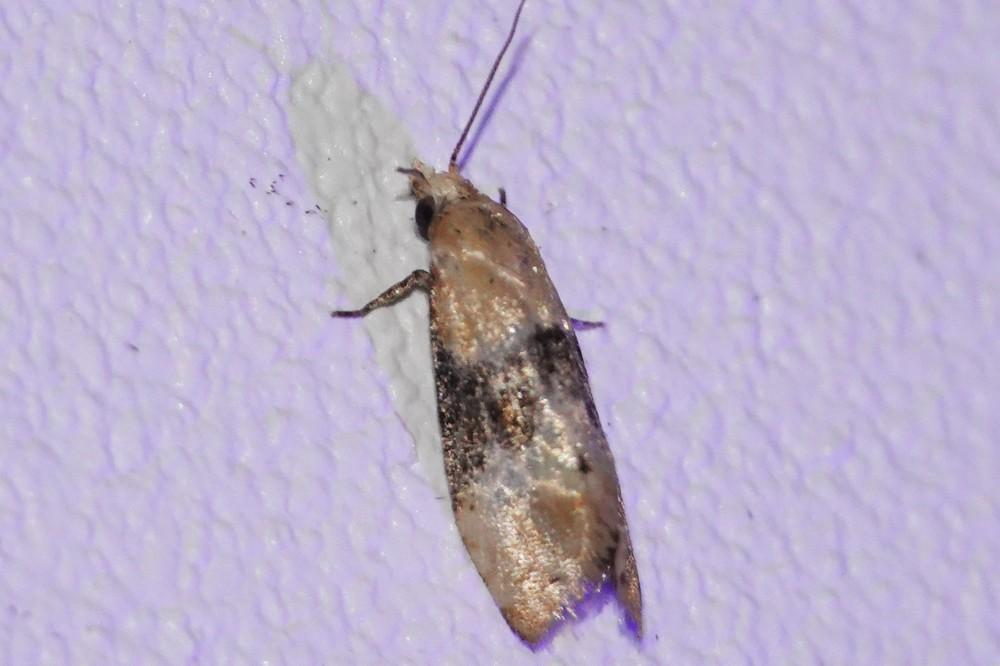Eupoecilia Ambiguella: (327, 2, 648, 652)
